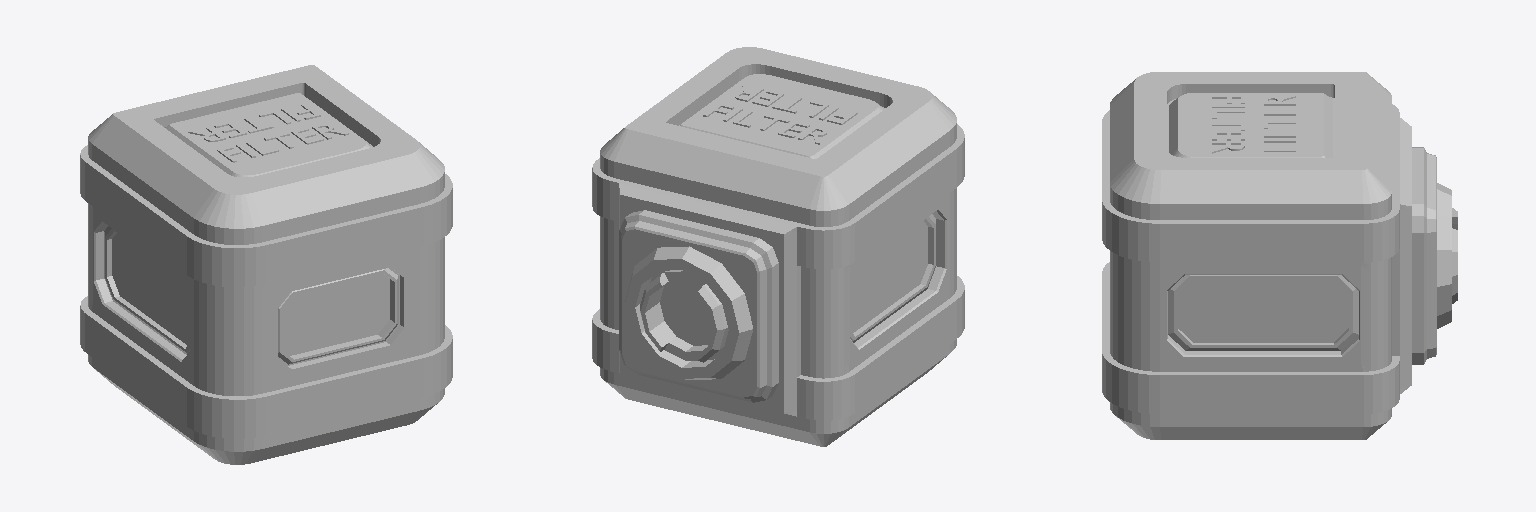
Rendered from fant_chest_1.obj.
The picture shows the model from 3 angles: view 1: azimuth 30°, elevation 25°; view 2: azimuth 150°, elevation 25°; view 3: azimuth 270°, elevation 25°; orthographic projection.
Visible parts, largest first — view 1: Fant_Chest_Cube; view 2: Fant_Chest_Cube; view 3: Fant_Chest_Cube.
Part boxes in pixels (bbox=[...]): Fant_Chest_Cube: bbox=[80, 65, 452, 464]; Fant_Chest_Cube: bbox=[592, 47, 964, 446]; Fant_Chest_Cube: bbox=[1102, 72, 1457, 439].
Size of the model in its own units: 3 by 3 by 3.59.